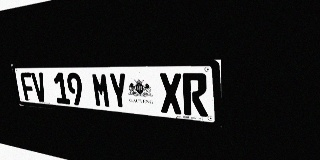1: (52, 73, 70, 104)
9: (66, 73, 85, 106)
F: (20, 72, 36, 101)
M: (91, 73, 111, 108)
R: (182, 73, 208, 117)
V: (31, 72, 48, 102)
X: (159, 73, 183, 115)
Y: (108, 73, 129, 110)
